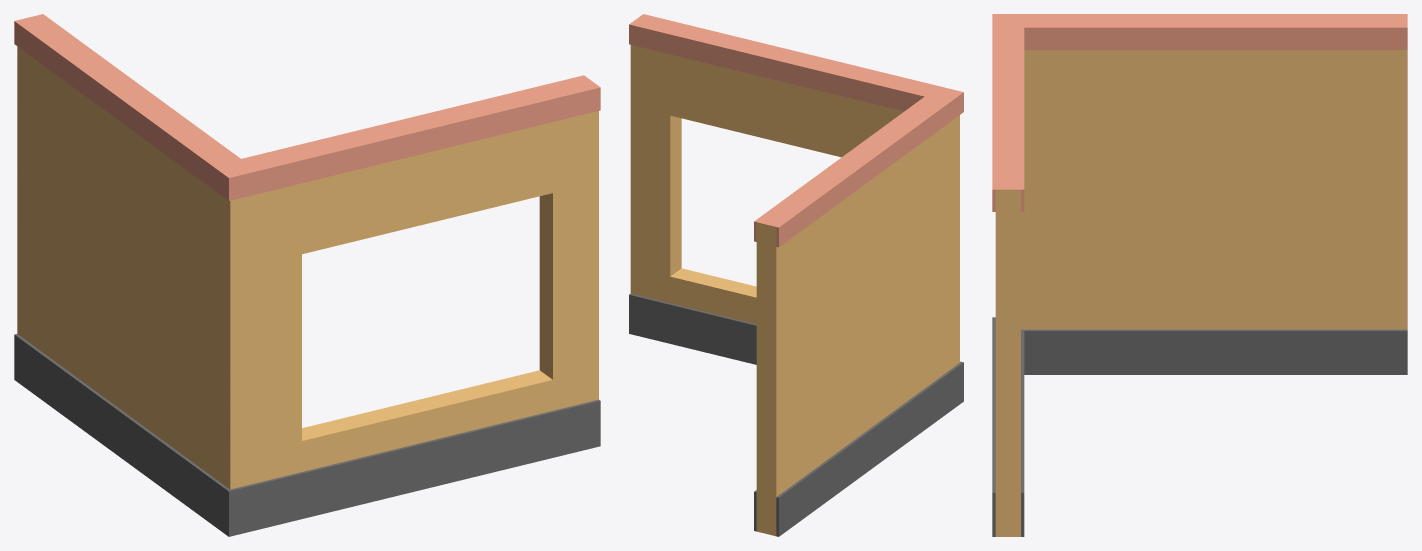
The model's file is Wall05-01.fbx.
3 renders of one model, left to right at view 1: azimuth 30°, elevation 25°; view 2: azimuth 150°, elevation 25°; view 3: azimuth 270°, elevation 25°, orthographic. The views are drawn at different scales.
Visible parts, largest first — view 1: Wall05-01; view 2: Wall05-01; view 3: Wall05-01.
Boxes of the visible parts, box(x1,y1,x2,y2) form: Wall05-01: box(14, 14, 600, 536); Wall05-01: box(629, 14, 963, 536); Wall05-01: box(992, 14, 1407, 536).
Size of the model in its own units: 3.25 by 3.25 by 3.
